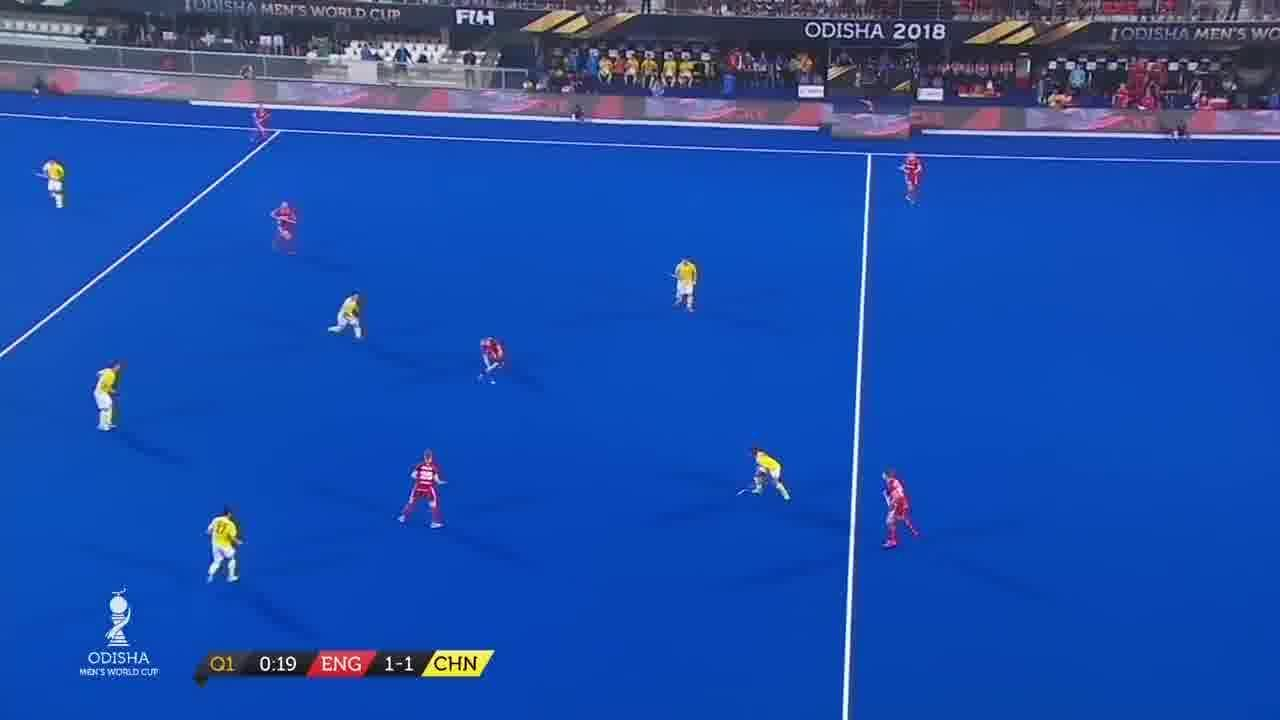ball: (485, 376, 502, 392)
